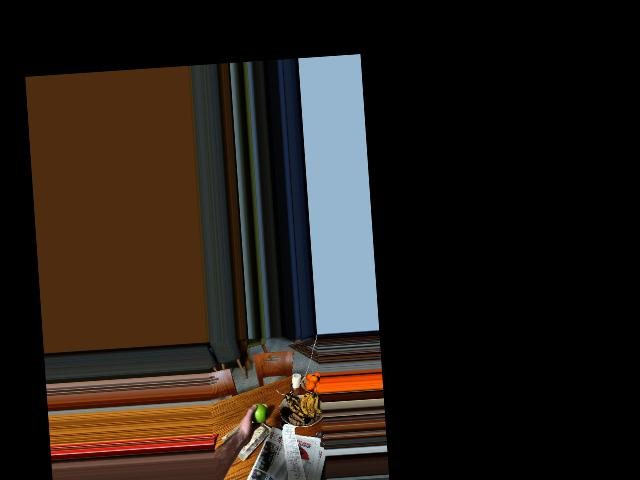apple: (247, 402, 269, 426)
